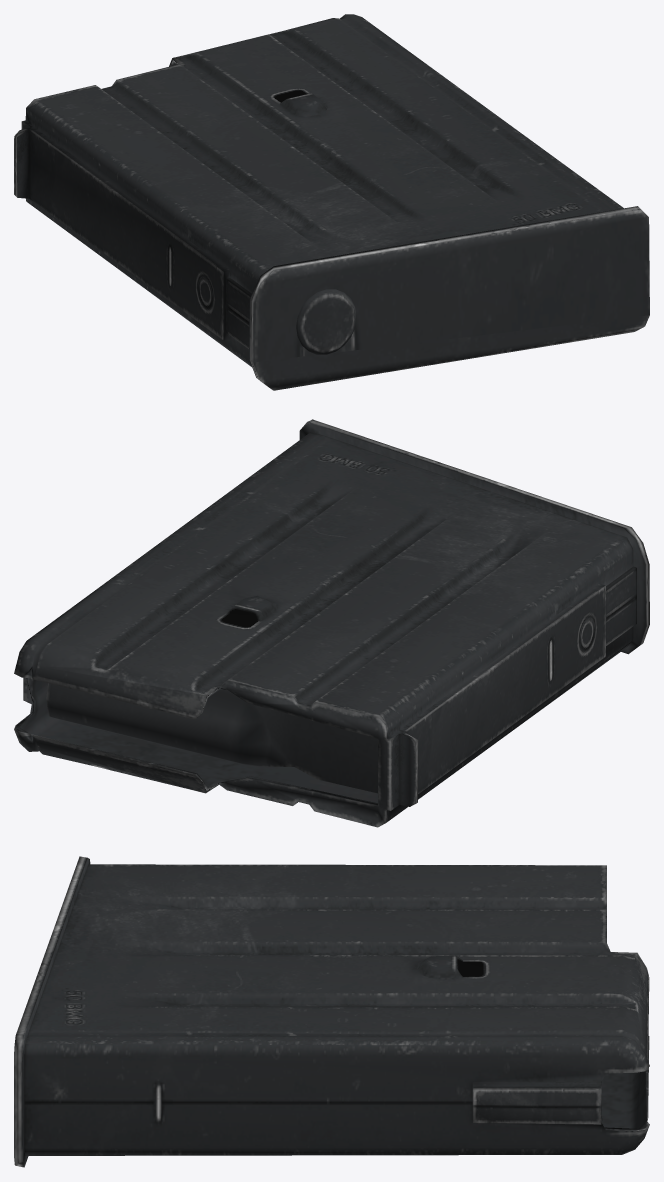
The model's file is Mag50BMGExtSm_Ground.fbx.
3 renders of one model, top to bottom at view 1: azimuth 30°, elevation 25°; view 2: azimuth 150°, elevation 25°; view 3: azimuth 270°, elevation 25°, orthographic. The views are drawn at different scales.
Visible parts, largest first — view 1: Mag50BMGExtSm; view 2: Mag50BMGExtSm; view 3: Mag50BMGExtSm.
Boxes of the visible parts, x1,y1,x2,y2 form: Mag50BMGExtSm: [14, 14, 649, 390]; Mag50BMGExtSm: [14, 419, 649, 827]; Mag50BMGExtSm: [14, 856, 649, 1167].
Bounding box in the file's own units: 0.0875 × 0.0273 × 0.1187.
